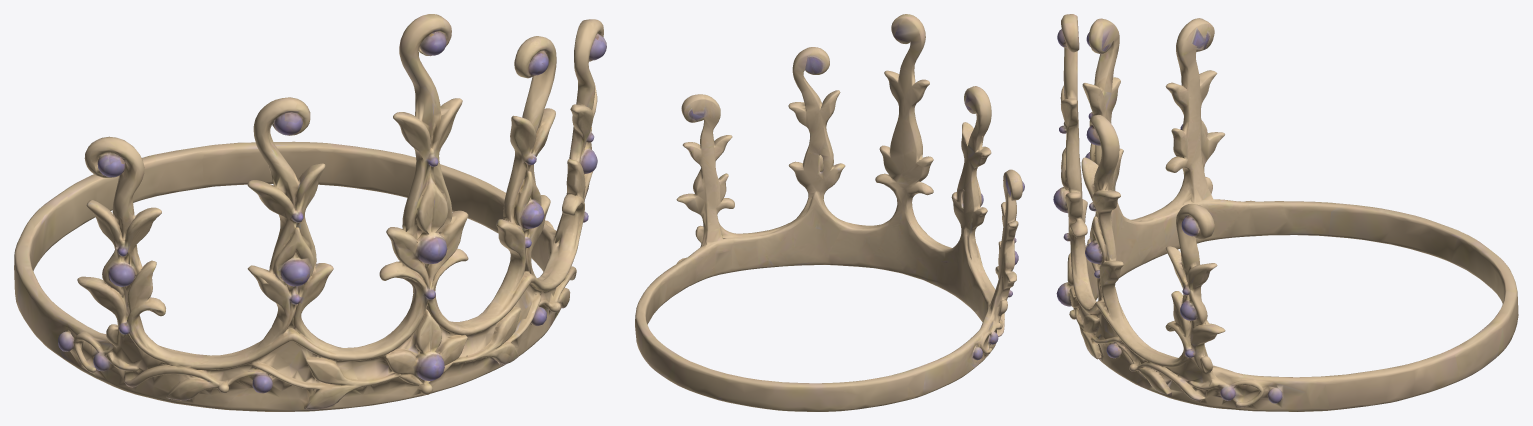
3 views of the same model, side by side, from view 1: azimuth 30°, elevation 25°; view 2: azimuth 150°, elevation 25°; view 3: azimuth 270°, elevation 25° (orthographic). The views are drawn at different scales.
Bounding box in the file's own units: 1.9 × 1.36 × 1.86.
1 material, 1 textured.
